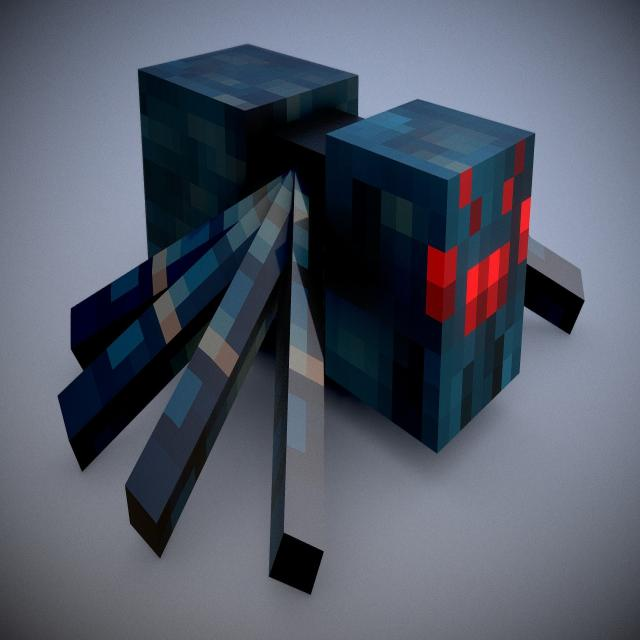Cave Spider: (60, 36, 589, 600)
